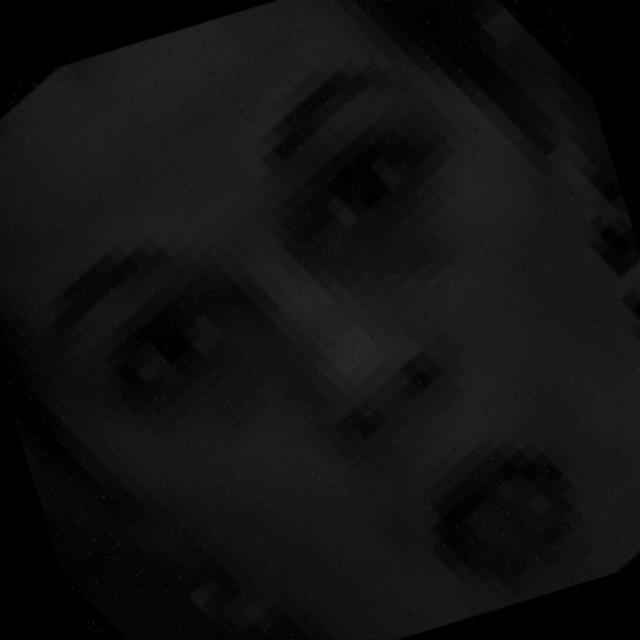Surprised: (22, 73, 609, 585)
